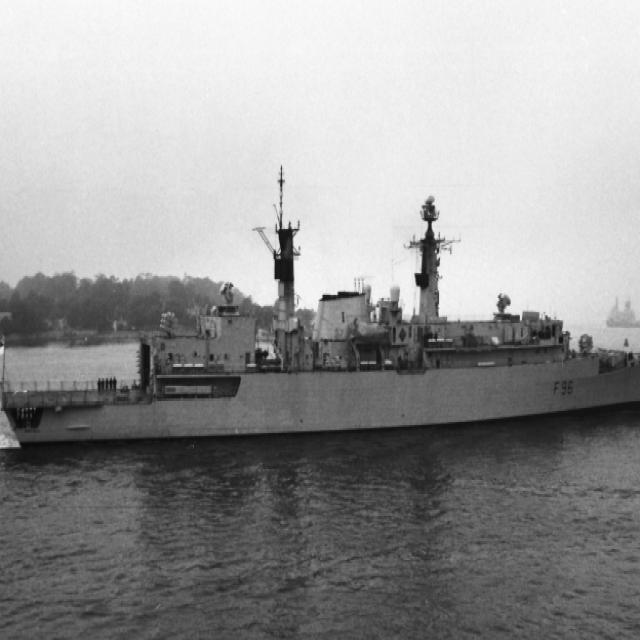Fragata: (1, 160, 640, 458)
